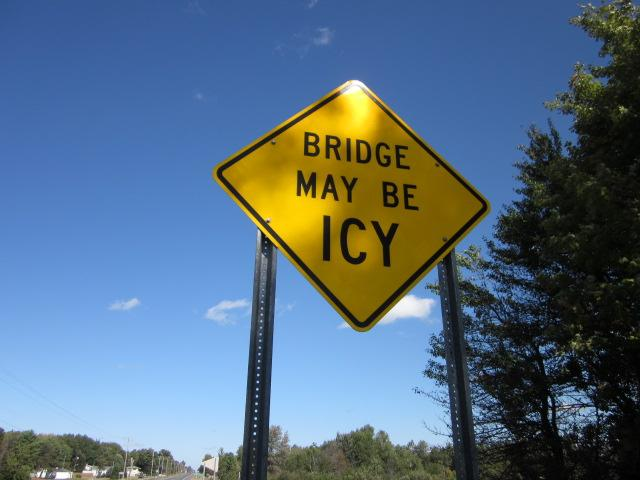warning: (212, 78, 494, 337)
